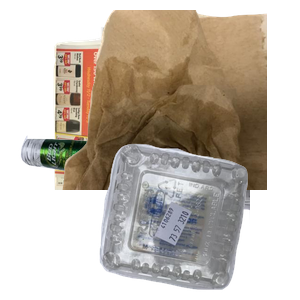glass: (18, 124, 258, 300)
paper: (51, 24, 291, 204)
plastic: (97, 141, 300, 300)
trash: (60, 10, 300, 190)
